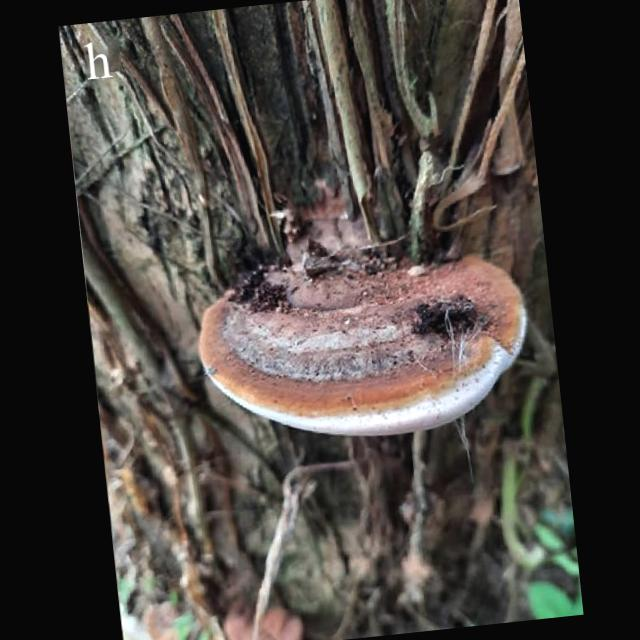ganoderma: (188, 229, 540, 458)
